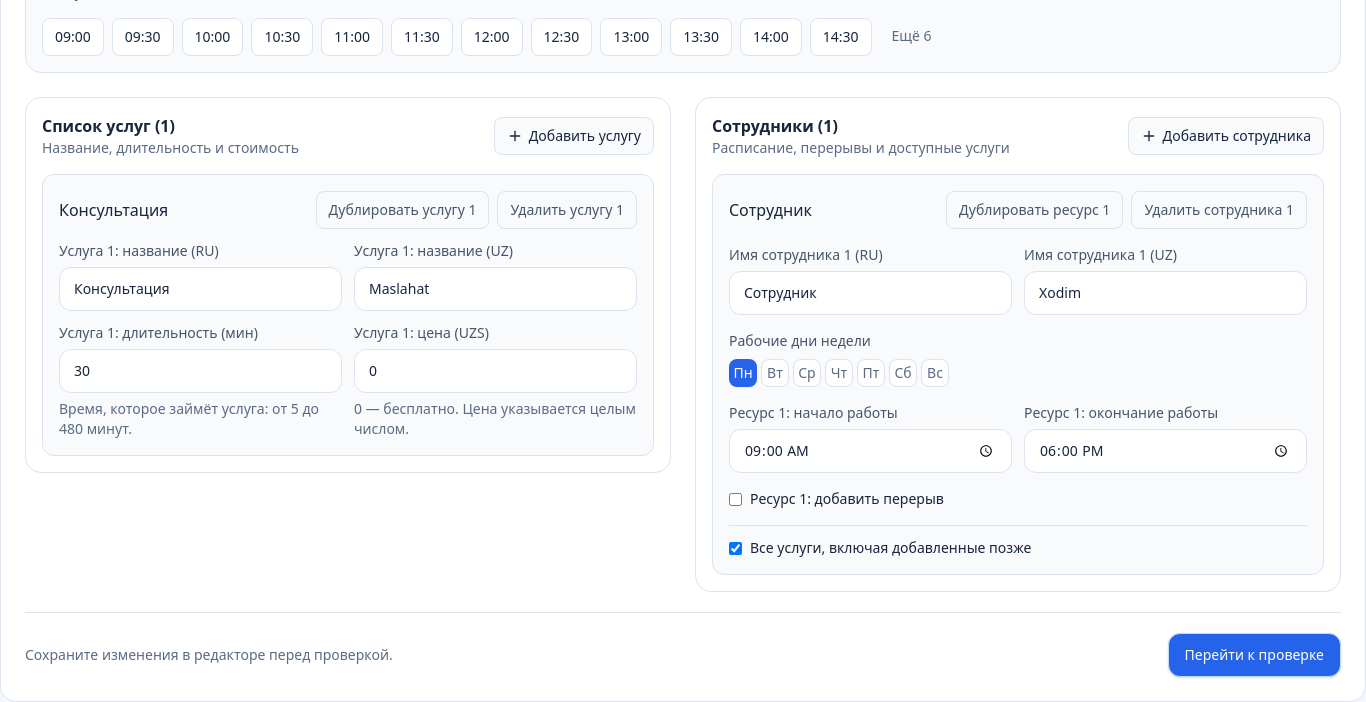
Test case: Настройка → проверка → запуск › блокирует запуск при замечаниях проверки
(page scrolled)
Click the button "Перейти к проверке" at (1254, 655), box [1168, 633, 1341, 677]
(page scrolled)
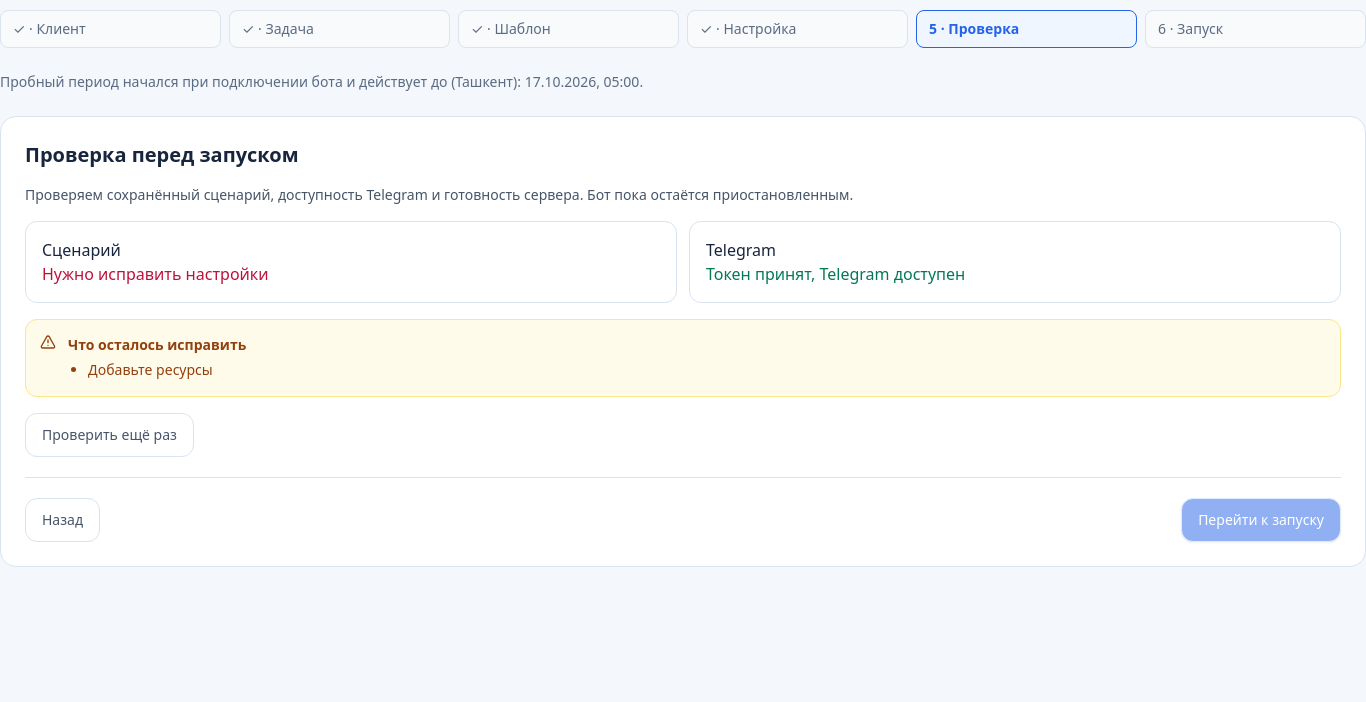
Expected: the list item "Добавьте ресурсы" is shown, [88, 360, 213, 379]
Expected: the button "Перейти к запуску" is disabled, [1181, 498, 1341, 542]
